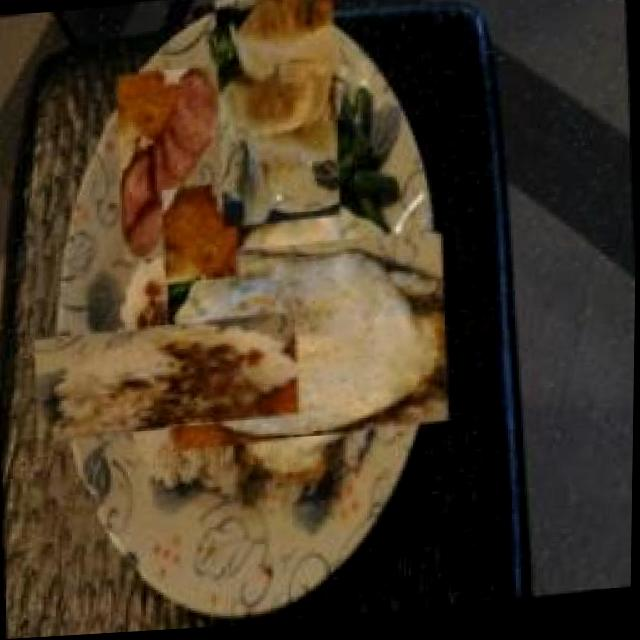chinese_sausage: (115, 67, 227, 266)
fried_dumplings: (212, 0, 345, 233)
fried_eggs: (184, 215, 435, 474)
rice: (69, 278, 265, 480)
triangle_hash_brown: (162, 184, 243, 287)
